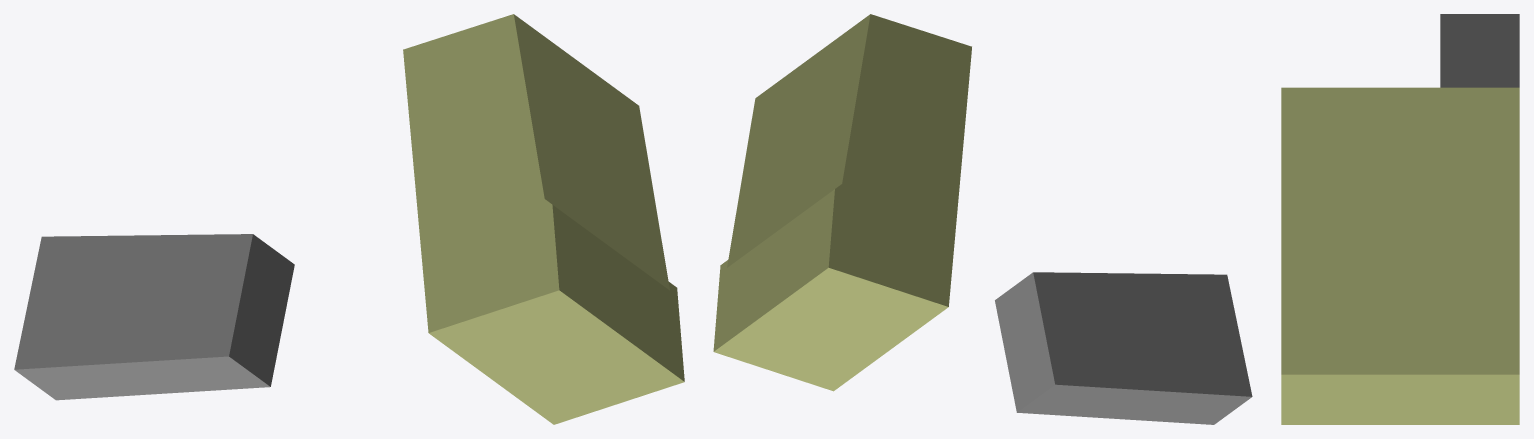
3 renders of one model, left to right at view 1: azimuth 30°, elevation 25°; view 2: azimuth 150°, elevation 25°; view 3: azimuth 270°, elevation 25°, orthographic. The views are drawn at different scales.
Parts seen in each view (by area): view 1: 0_1_1_3_3_1_0_2_2_0; view 2: 0_1_1_3_3_1_0_2_2_0; view 3: 0_1_1_3_3_1_0_2_2_0.
Boxes of the visible parts, bbox=[...] form: 0_1_1_3_3_1_0_2_2_0: bbox=[14, 14, 684, 424]; 0_1_1_3_3_1_0_2_2_0: bbox=[713, 14, 1252, 424]; 0_1_1_3_3_1_0_2_2_0: bbox=[1281, 14, 1519, 424].
Size of the model in its own units: 22.59 by 11.81 by 9.
